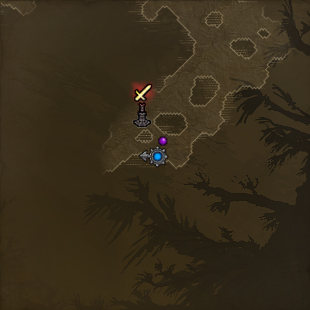PowerPylon: (132, 83, 153, 128)
